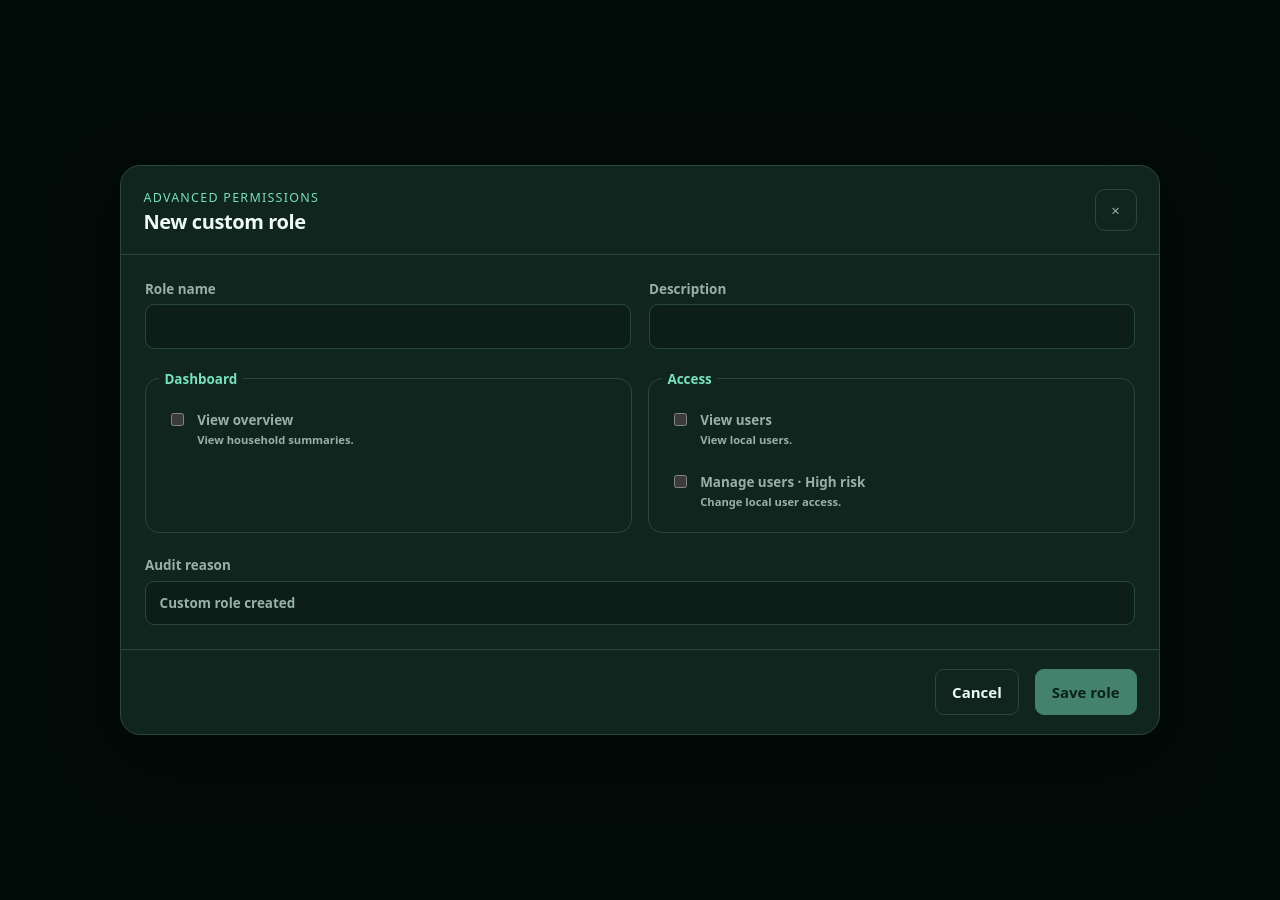
Test: protected permission changes › shows an inline error and does not save after invalid confirmation
This screenshot has width=1280, height=900.
Type "Household manager" into the field labelled "Role name" at point(388, 327), box [145,304,631,349]
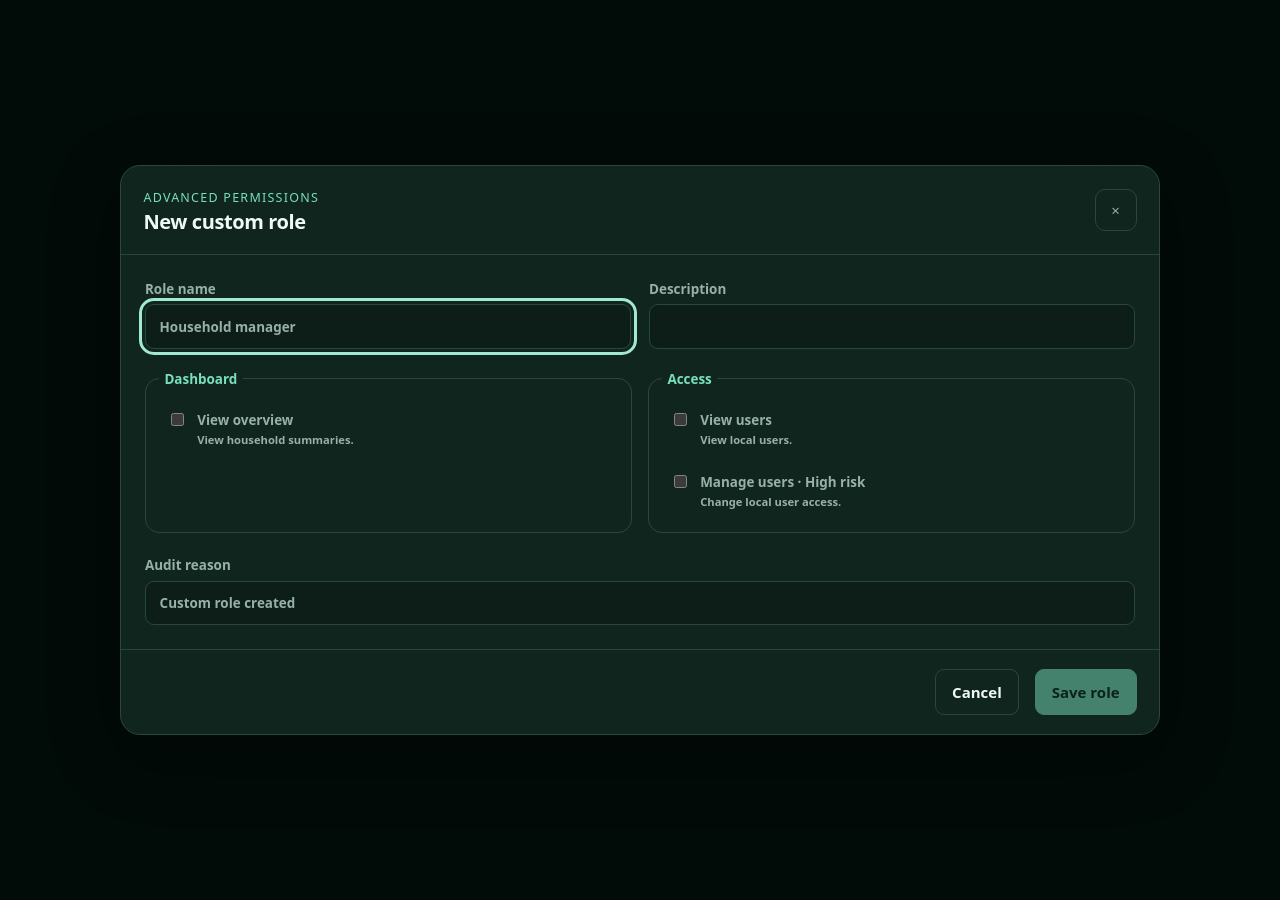
Type "Manages selected household settings" into the field labelled "Description" at point(892, 327), box [649,304,1135,349]
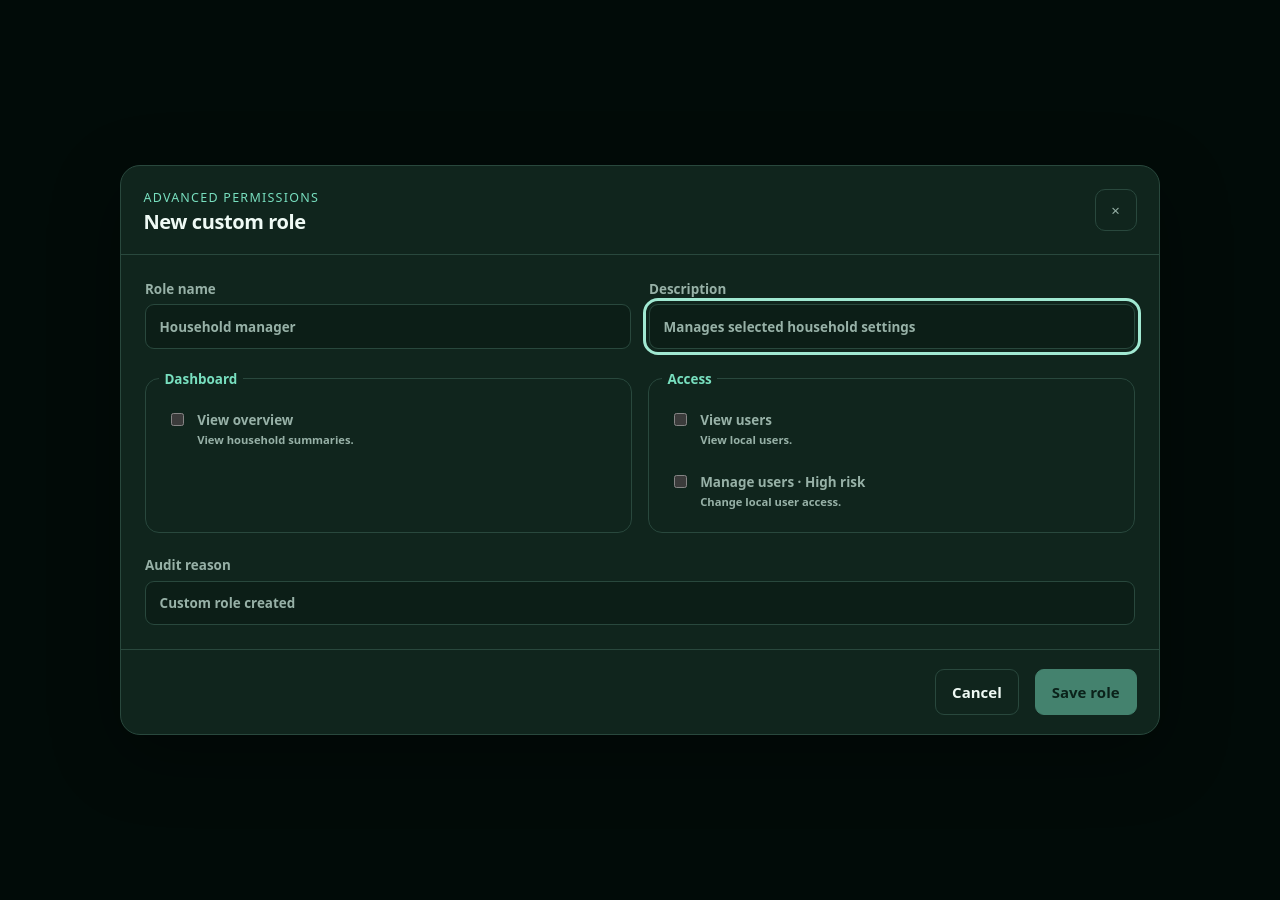
Click the checkbox labelled "Manage users · High risk Change local user access." at point(680, 481), box [674,475,687,488]
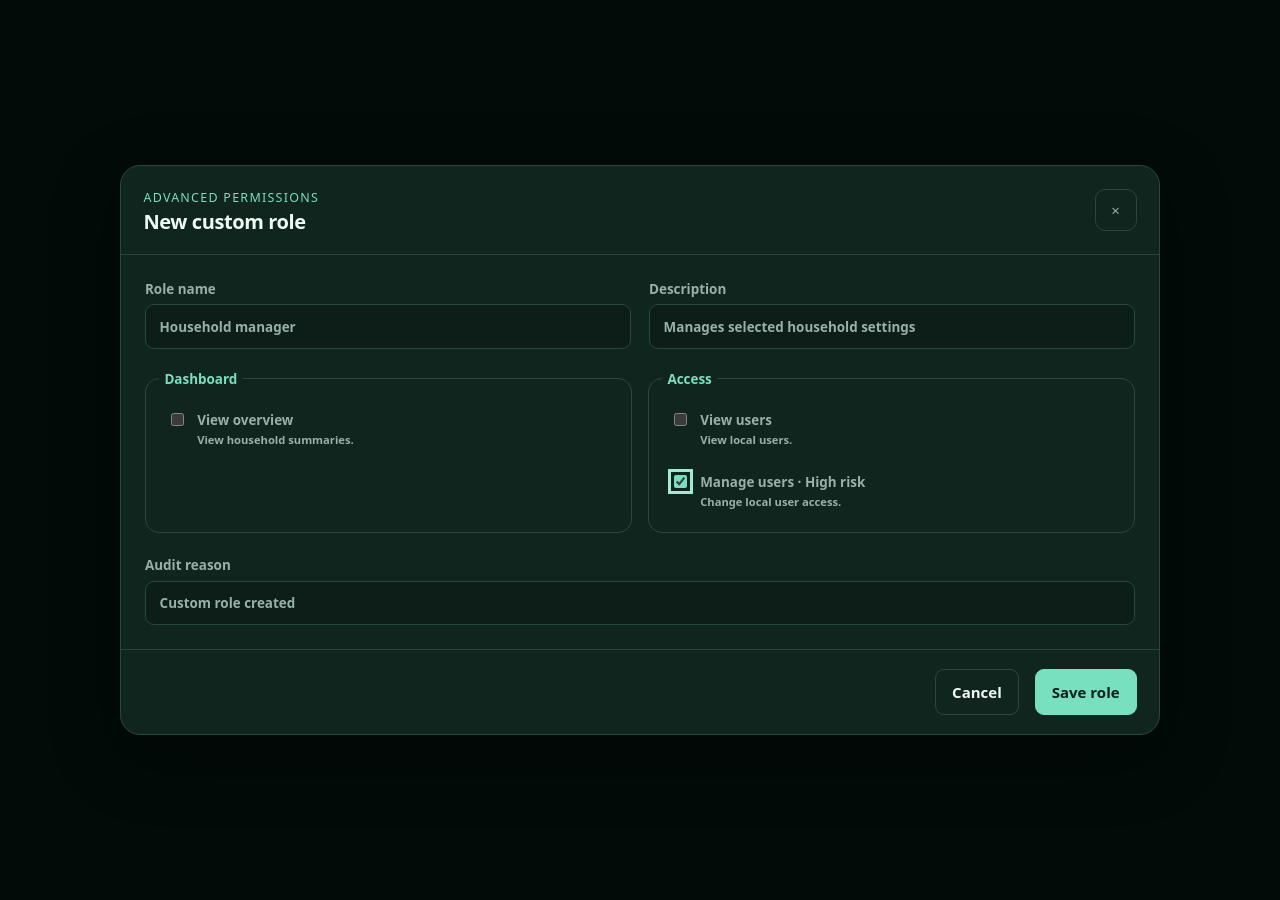
Click the button "Save role" at point(1086, 692), box [1035,670,1137,715]
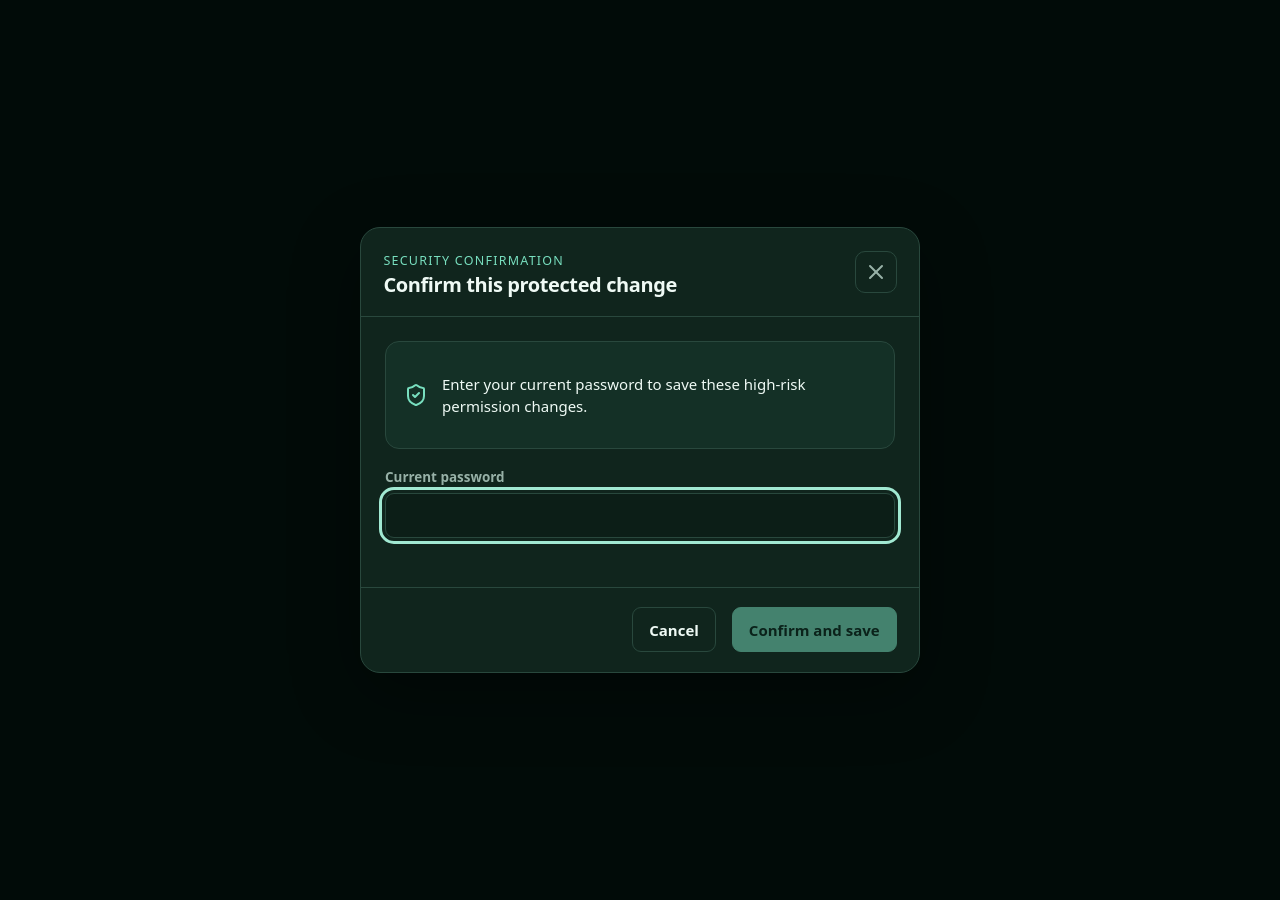
Type "wrong-password" into the password field labelled "Current password" at point(640, 515), box [385,493,895,538]
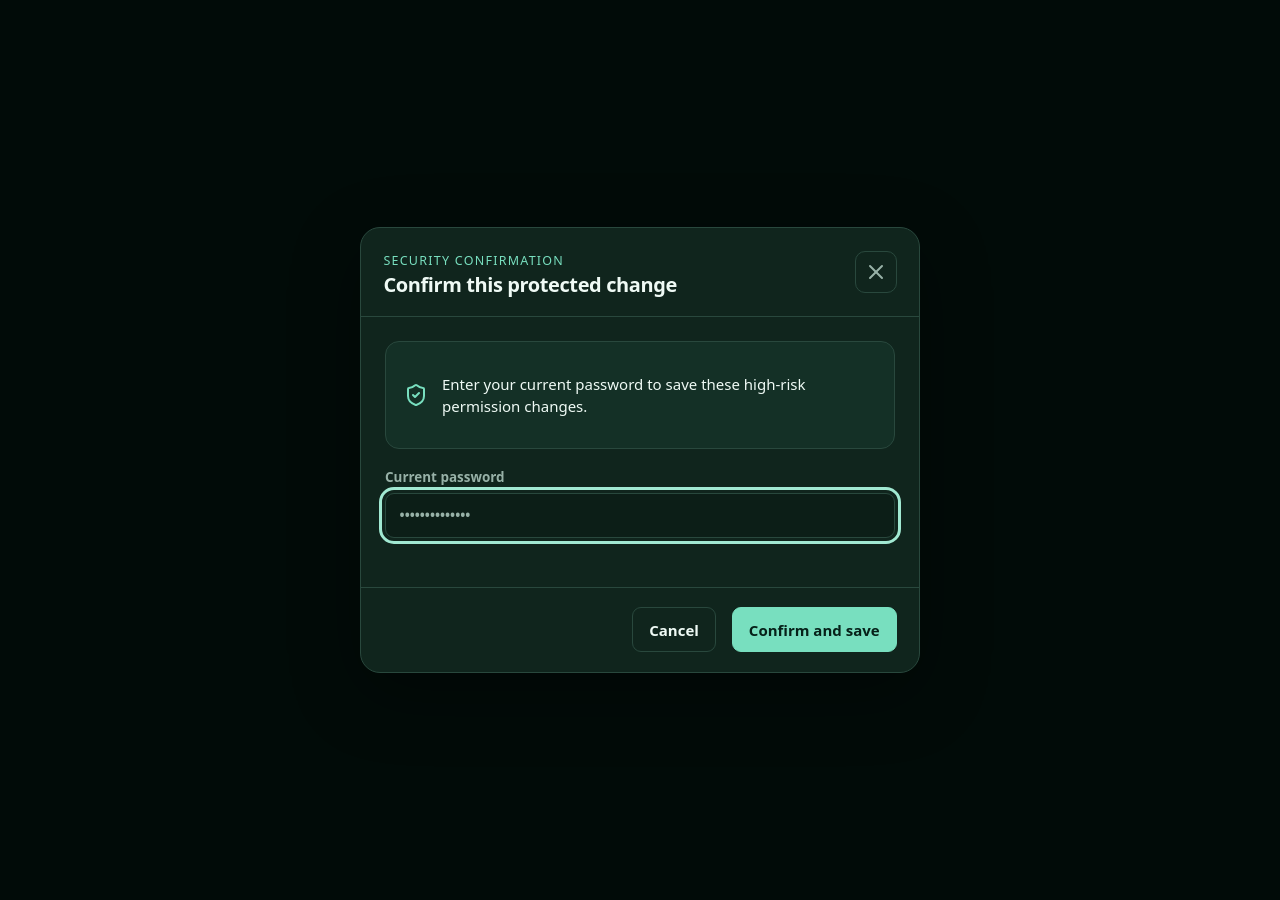
Click the button "Confirm and save" at point(814, 630), box [732,607,897,652]
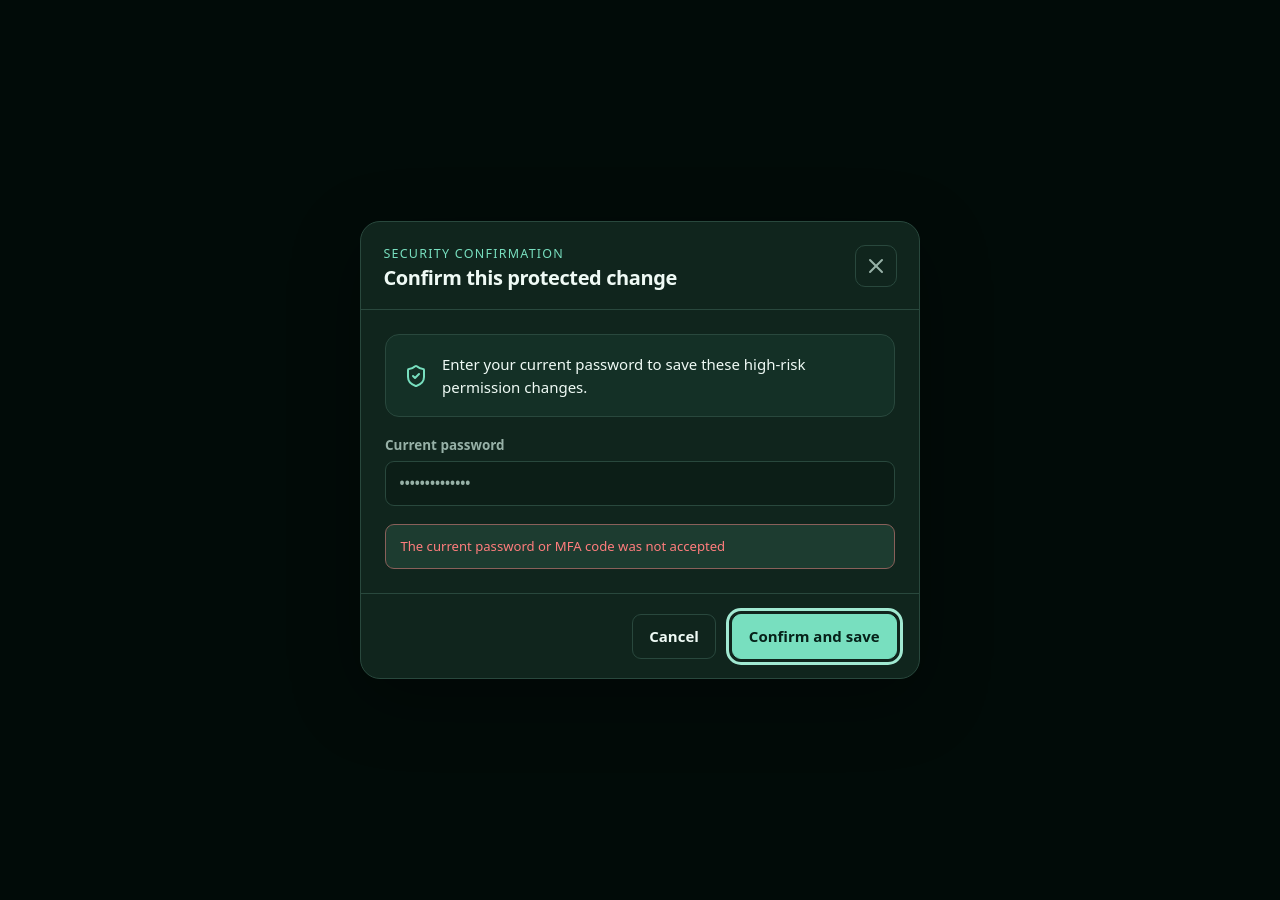
expect the text "The current password or MFA code was not accepted" is shown: met, box [385,524,895,569]
